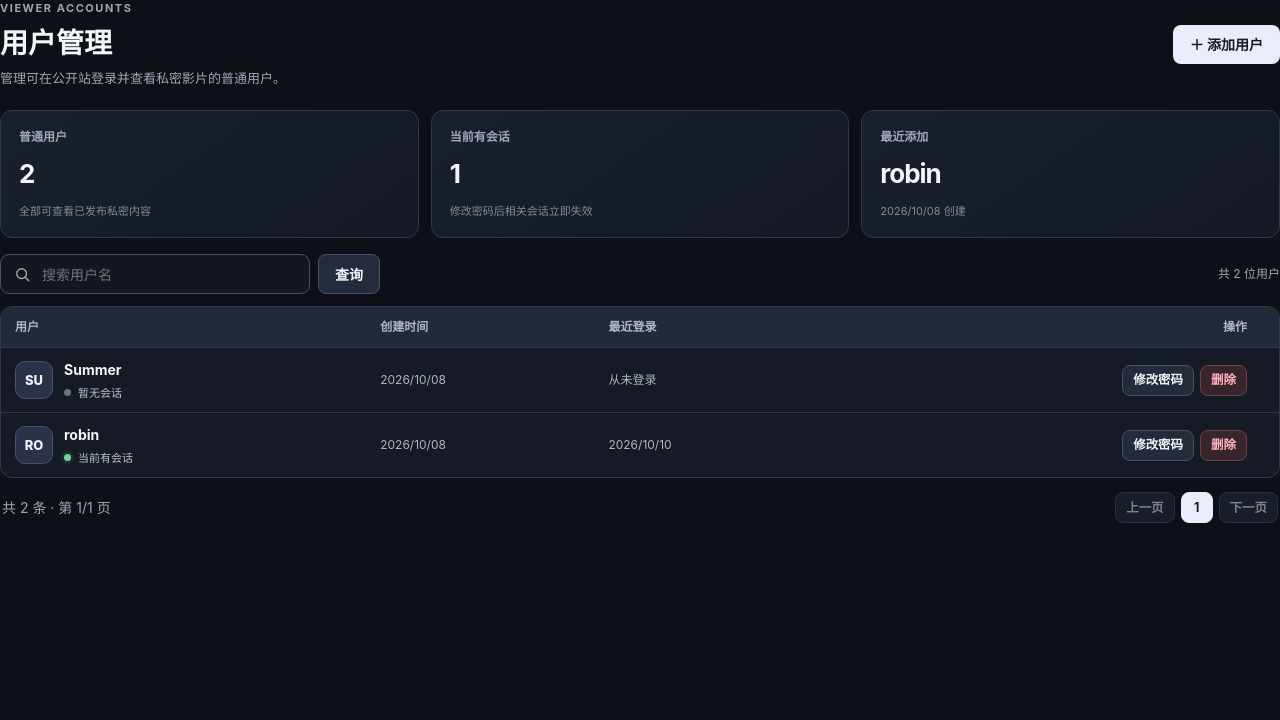
Test: creates a user then refreshes the list and global overview
The width and height of the screenshot is (1280, 720).
Expected: the row "Su Summer 暂无会话 2026/10/08 从未登录 修改密码 删除" is shown, [1,348,1279,413]
Click the button "＋ 添加用户".
click(1226, 44)  # box [1173,25,1279,64]
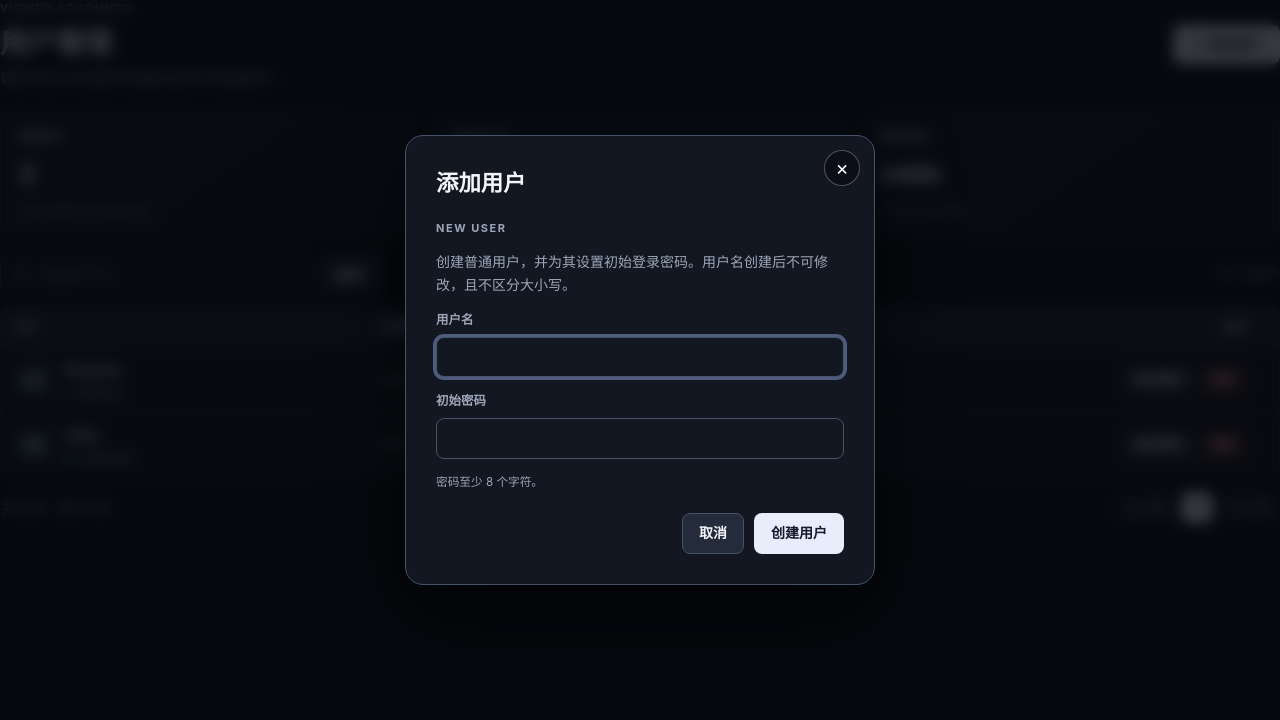
Now the dialog "添加用户" shows "用户名创建后不可修改", box [436,253,828,293]
Type " hanmei " into the field labelled "用户名".
click(640, 357); type(" hanmei ")  # box [436,337,844,378]
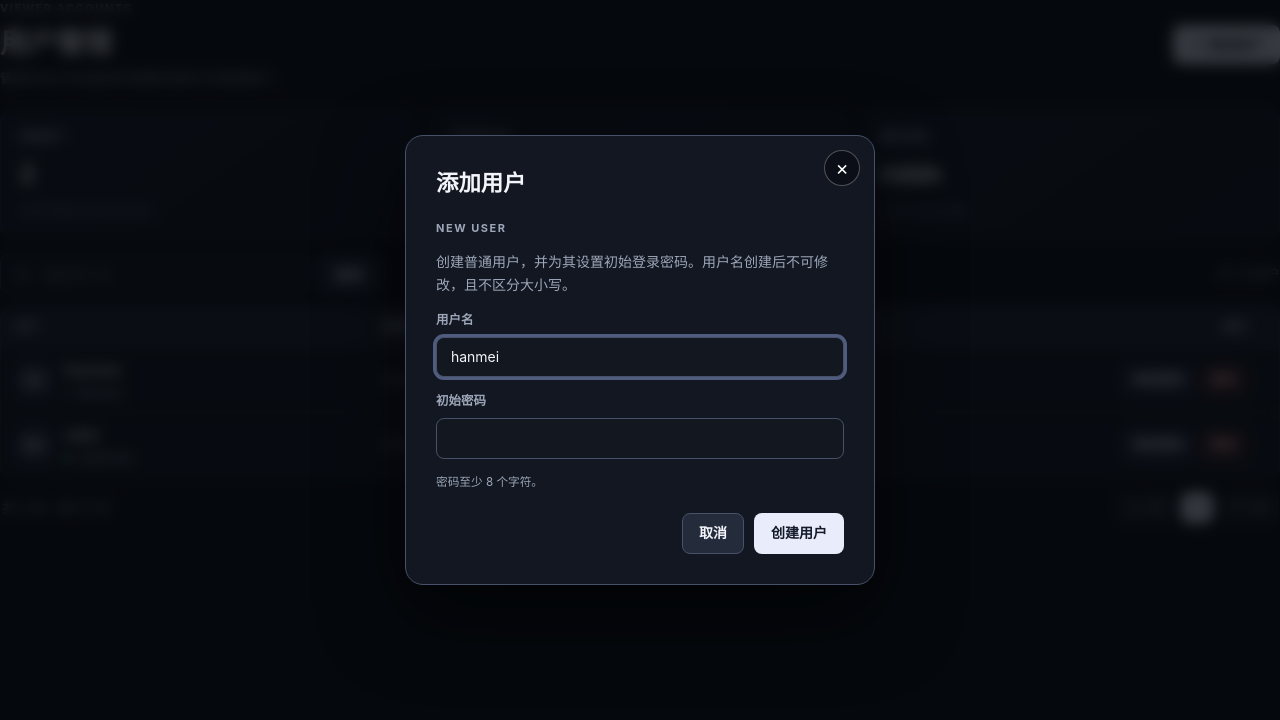
Type "new-password" into the password field labelled "初始密码".
click(640, 439); type("new-password")  # box [436,418,844,459]
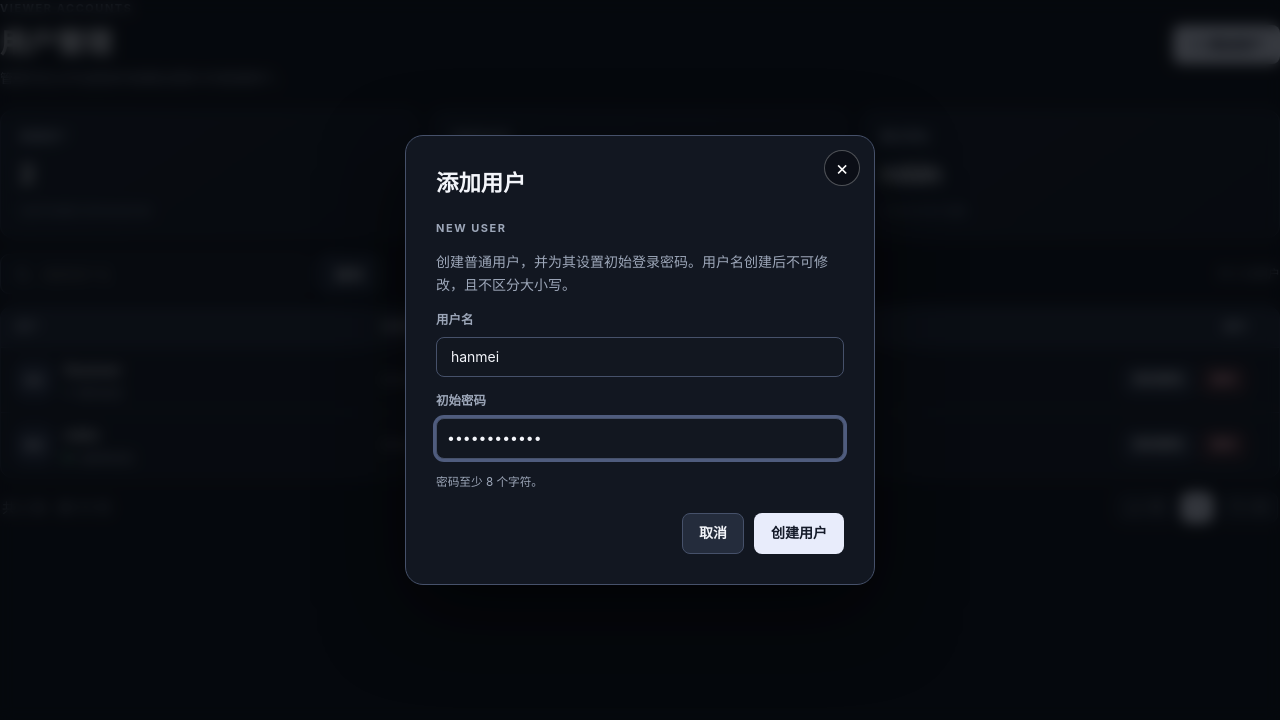
Click the button "创建用户".
click(799, 534)  # box [754,514,844,554]
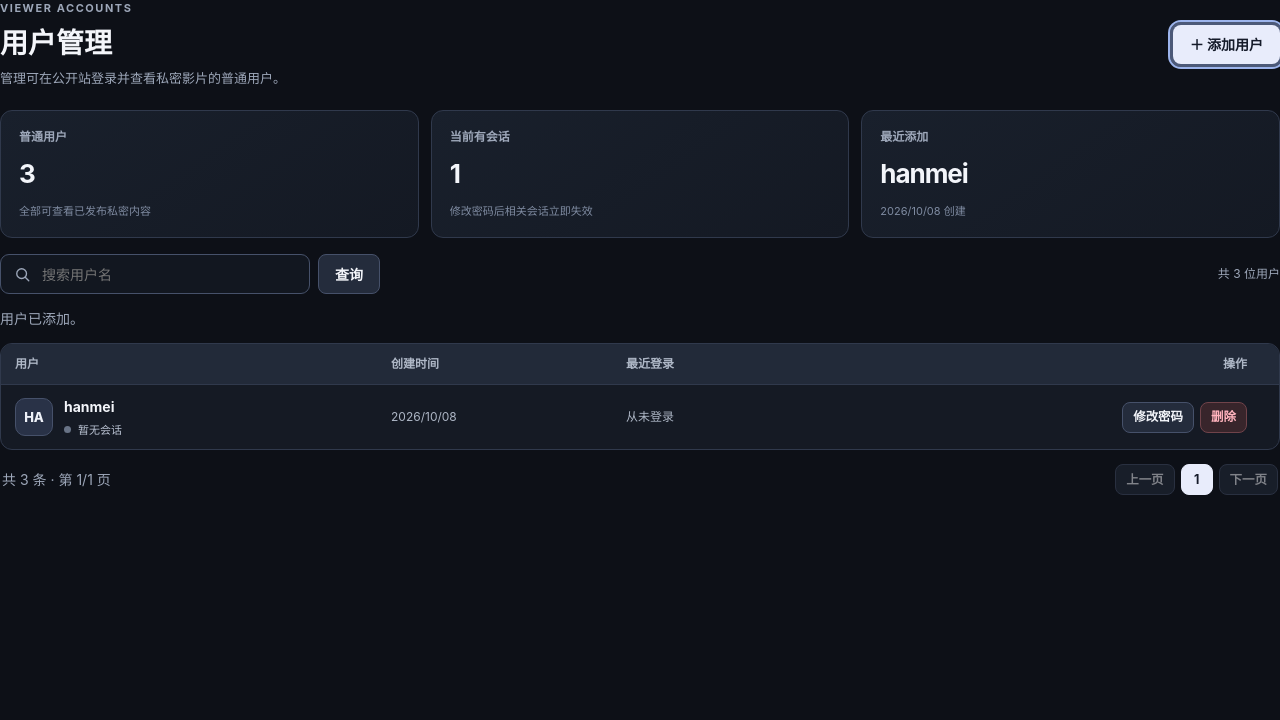
Now the row "ha hanmei 暂无会话 2026/10/08 从未登录 修改密码 删除" is shown, box [1,385,1279,449]
Now the dialog is gone
